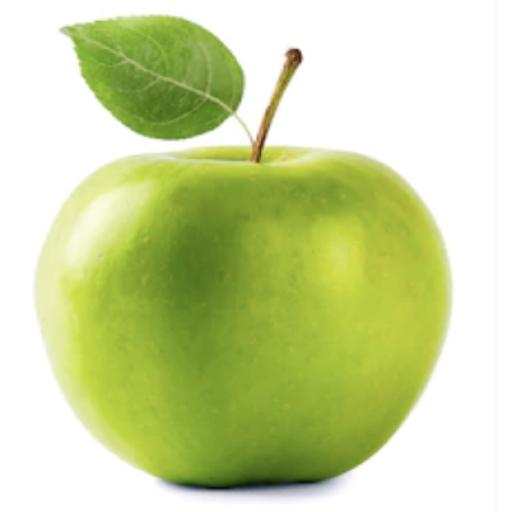apple: (37, 148, 449, 487)
